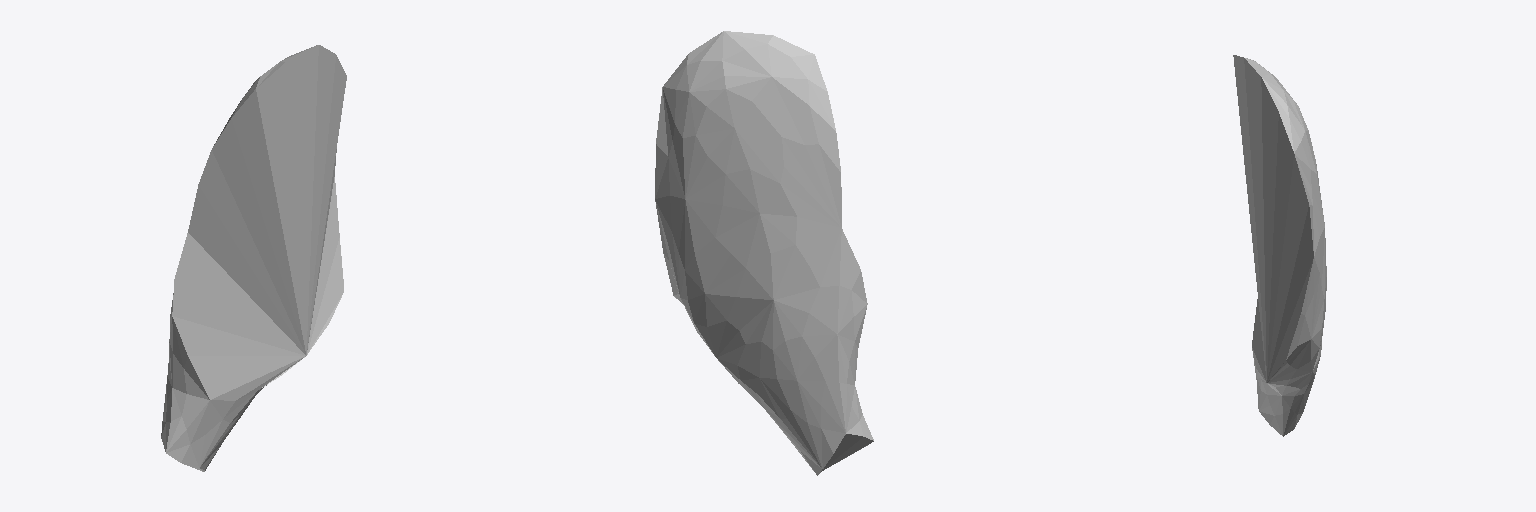
Rendered from Patte_ar_L.obj.
3 renders of one model, left to right at view 1: azimuth 30°, elevation 25°; view 2: azimuth 150°, elevation 25°; view 3: azimuth 270°, elevation 25°, orthographic.
Parts seen in each view (by area): view 1: Patte_arrière_L; view 2: Patte_arrière_L; view 3: Patte_arrière_L.
Boxes of the visible parts, x1,y1,x2,y2 form: Patte_arrière_L: [161, 45, 346, 471]; Patte_arrière_L: [655, 31, 873, 475]; Patte_arrière_L: [1233, 55, 1326, 436].
Size of the model in its own units: 1.57 by 3.13 by 0.6457.